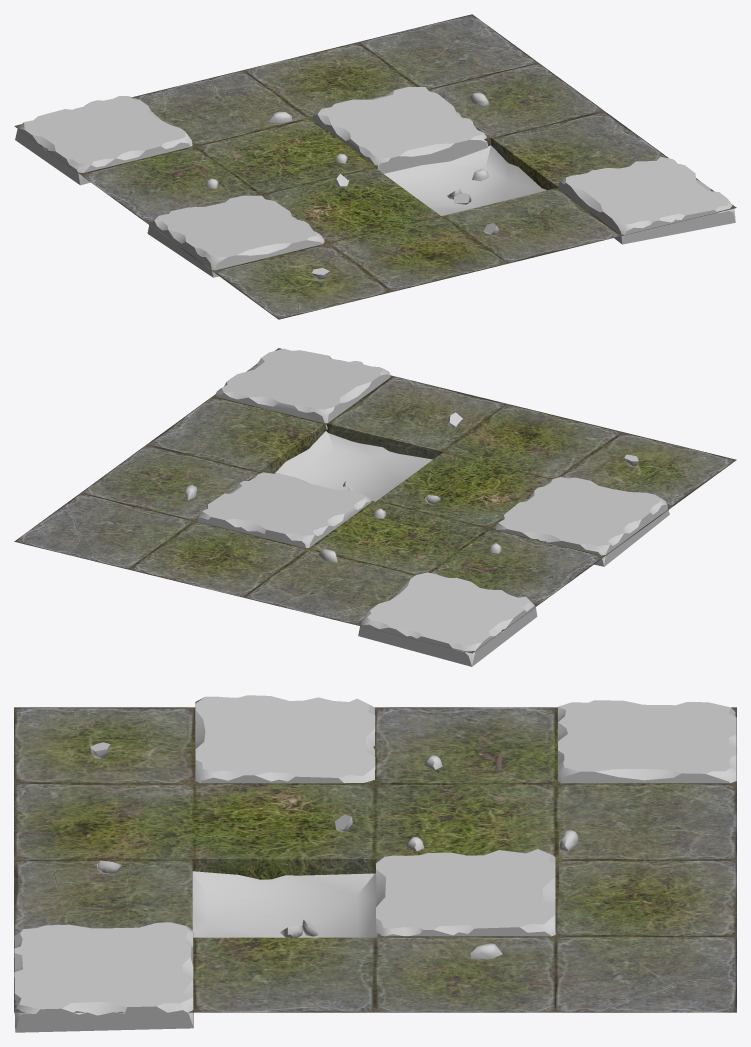
Rendered from Floor_Lvl3_5.fbx.
3 views of the same model, one above another, from view 1: azimuth 30°, elevation 25°; view 2: azimuth 150°, elevation 25°; view 3: azimuth 270°, elevation 25° (orthographic). The views are drawn at different scales.
Parts seen in each view (by area): view 1: StoneFloor_Details.004; view 2: StoneFloor_Details.004; view 3: StoneFloor_Details.004.
Boxes of the visible parts, x1,y1,x2,y2 form: StoneFloor_Details.004: [14, 14, 736, 319]; StoneFloor_Details.004: [14, 348, 736, 666]; StoneFloor_Details.004: [14, 695, 736, 1032].
Bounding box in the file's own units: 382 × 31.87 × 382.
